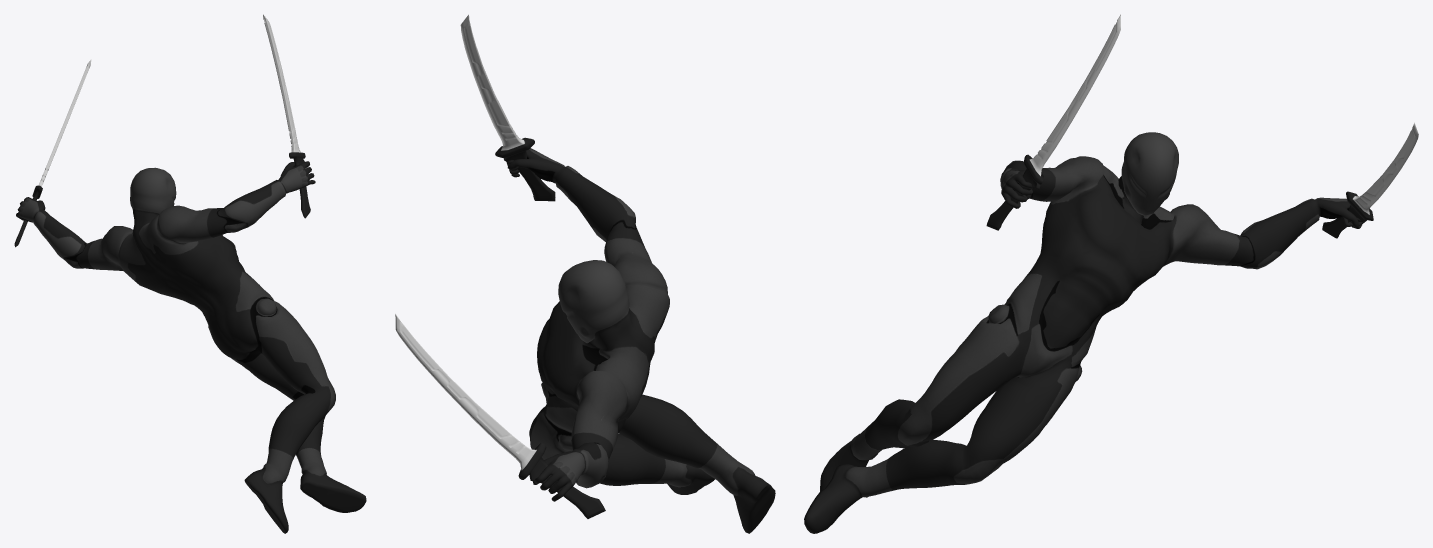
3 renders of one model, left to right at view 1: azimuth 30°, elevation 25°; view 2: azimuth 150°, elevation 25°; view 3: azimuth 270°, elevation 25°, orthographic. The views are drawn at different scales.
Parts seen in each view (by area): view 1: Cyborg_Ninja_Killer, Sword_l001, Sword_l; view 2: Cyborg_Ninja_Killer, Sword_l, Sword_l001; view 3: Cyborg_Ninja_Killer, Sword_l001, Sword_l.
Boxes of the visible parts, x1,y1,x2,y2 form: Cyborg_Ninja_Killer: (16, 161, 366, 533); Sword_l001: (263, 14, 310, 218); Sword_l: (14, 59, 91, 247); Cyborg_Ninja_Killer: (506, 148, 775, 533); Sword_l: (395, 314, 605, 518); Sword_l001: (460, 14, 555, 201); Cyborg_Ninja_Killer: (804, 132, 1366, 533); Sword_l001: (986, 14, 1120, 230); Sword_l: (1322, 123, 1418, 238).
Bounding box in the file's own units: 90.29 × 197 × 199.
Materials: 2 (2 with a texture image).
